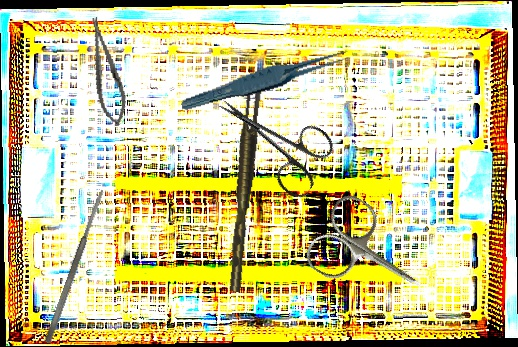Iris Scissors: (299, 189, 443, 322), (200, 74, 342, 203)
Needle Holder: (81, 14, 132, 129)
Spatula Surgical: (43, 188, 107, 345)
Tissue Forceps: (177, 47, 356, 113), (218, 87, 269, 293)
